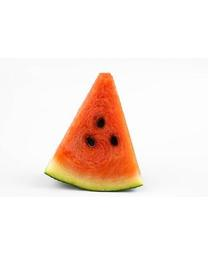watermelon: (41, 68, 148, 192)
